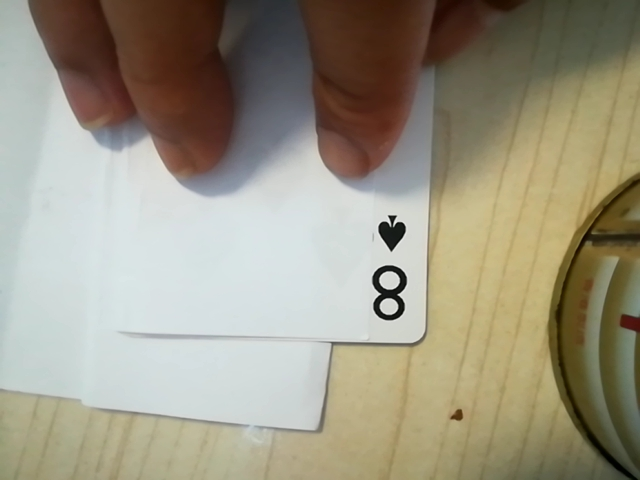ht 8: (359, 201, 424, 332)
